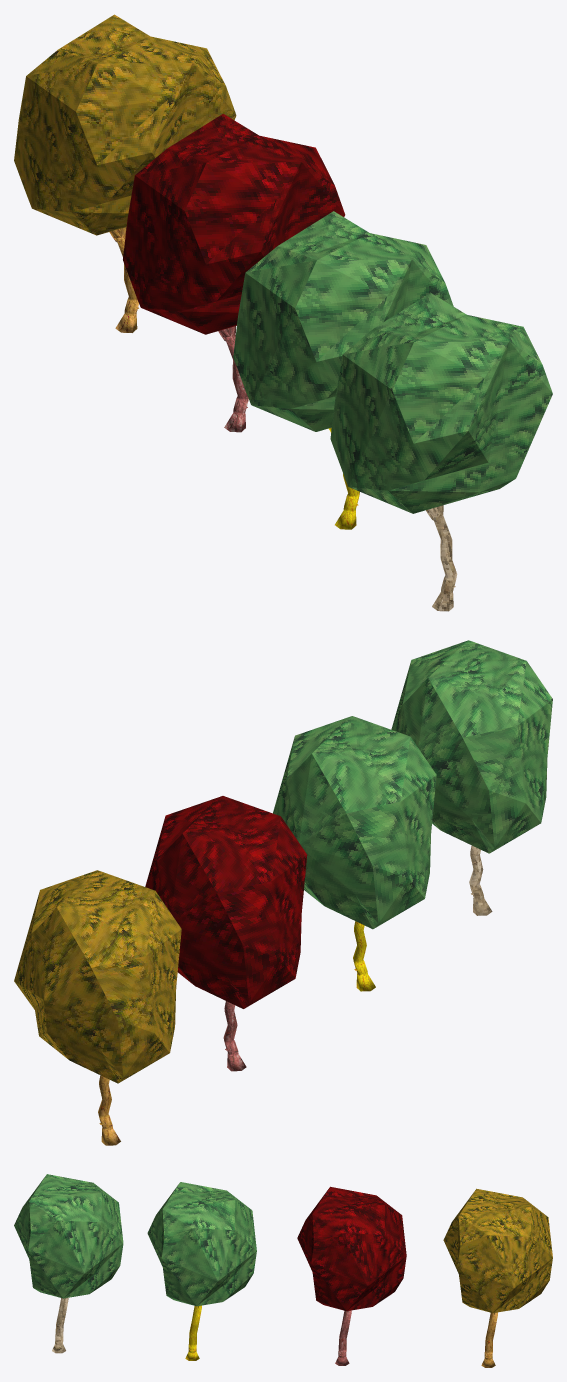
File: trees.glb
The picture shows the model from 3 angles, top to bottom: view 1: azimuth 30°, elevation 25°; view 2: azimuth 150°, elevation 25°; view 3: azimuth 270°, elevation 25°; orthographic projection. The views are drawn at different scales.
Visible parts, largest first — view 1: Cube.047, Cube.054, Cube.051, Cube.049, Cube.046, Cube.050, Cube.053; view 2: Cube.054, Cube.049, Cube.051, Cube.047, Cube.048, Cube.050, Cube.053, Cube.046; view 3: Cube.049, Cube.047, Cube.054, Cube.051, Cube.046, Cube.050, Cube.048, Cube.053.
Boxes of the visible parts, box(x1,y1,x2,y2) form: Cube.047: box(330, 293, 552, 513); Cube.054: box(14, 14, 236, 235); Cube.051: box(123, 113, 345, 334); Cube.049: box(233, 211, 453, 431); Cube.046: box(426, 505, 457, 611); Cube.050: box(218, 326, 248, 432); Cube.053: box(109, 227, 138, 332); Cube.054: box(14, 870, 181, 1083); Cube.049: box(273, 716, 436, 929); Cube.051: box(145, 796, 307, 1008); Cube.047: box(391, 640, 552, 853); Cube.048: box(353, 921, 375, 991); Cube.050: box(223, 1001, 246, 1071); Cube.053: box(98, 1075, 120, 1145); Cube.046: box(469, 845, 492, 915); Cube.049: box(147, 1182, 256, 1306); Cube.047: box(14, 1174, 123, 1298); Cube.054: box(443, 1188, 552, 1312); Cube.051: box(297, 1186, 406, 1311); Cube.046: box(52, 1298, 68, 1353); Cube.050: box(335, 1310, 351, 1365); Cube.048: box(185, 1305, 201, 1360); Cube.053: box(481, 1312, 497, 1367).
Bounding box in the file's own units: 11.5 × 14.6 × 42.22.
8 materials, 8 textured.
